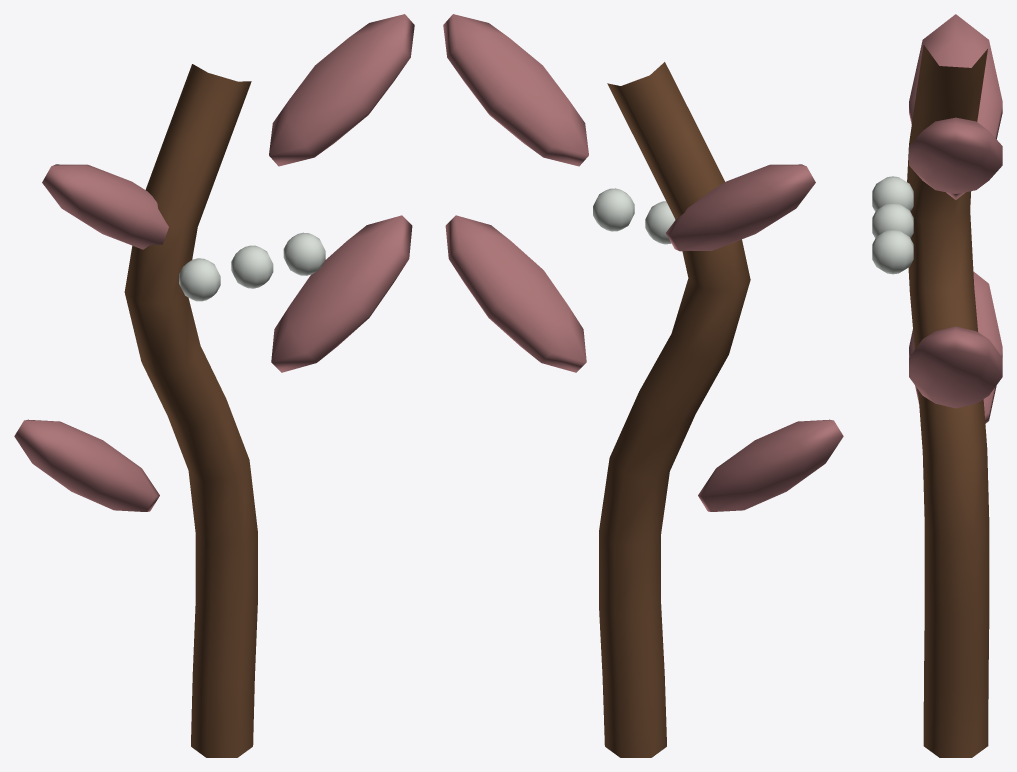
The model's file is druidic-mistletoe.glb.
The picture shows the model from 3 angles, left to right: view 1: azimuth 30°, elevation 25°; view 2: azimuth 150°, elevation 25°; view 3: azimuth 270°, elevation 25°; orthographic projection. The views are drawn at different scales.
Parts seen in each view (by area): view 1: mistletoe-stem, mistletoe-leaf (×4), mistletoe-berry (×3); view 2: mistletoe-stem, mistletoe-leaf (×4), mistletoe-berry (×2); view 3: mistletoe-stem, mistletoe-leaf (×4), mistletoe-berry (×3).
Boxes of the visible parts, x1,y1,x2,y2 form: mistletoe-stem: [124, 64, 257, 757]; mistletoe-leaf (×4): [14, 14, 414, 511]; mistletoe-berry (×3): [179, 232, 325, 301]; mistletoe-stem: [599, 62, 750, 757]; mistletoe-leaf (×4): [443, 14, 843, 511]; mistletoe-berry (×2): [593, 188, 675, 244]; mistletoe-stem: [907, 45, 989, 757]; mistletoe-leaf (×4): [909, 14, 1002, 423]; mistletoe-berry (×3): [872, 176, 913, 274].
Size of the model in its own units: 0.2674 by 0.4388 by 0.0727.
